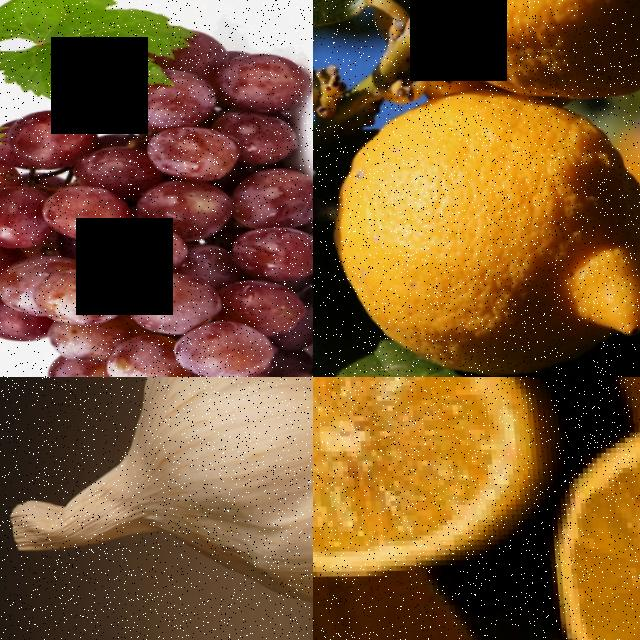garlic: (11, 377, 313, 613)
grapes: (0, 87, 313, 377)
lemon: (318, 89, 640, 374), (313, 377, 527, 582), (384, 0, 640, 107), (537, 405, 640, 640)
